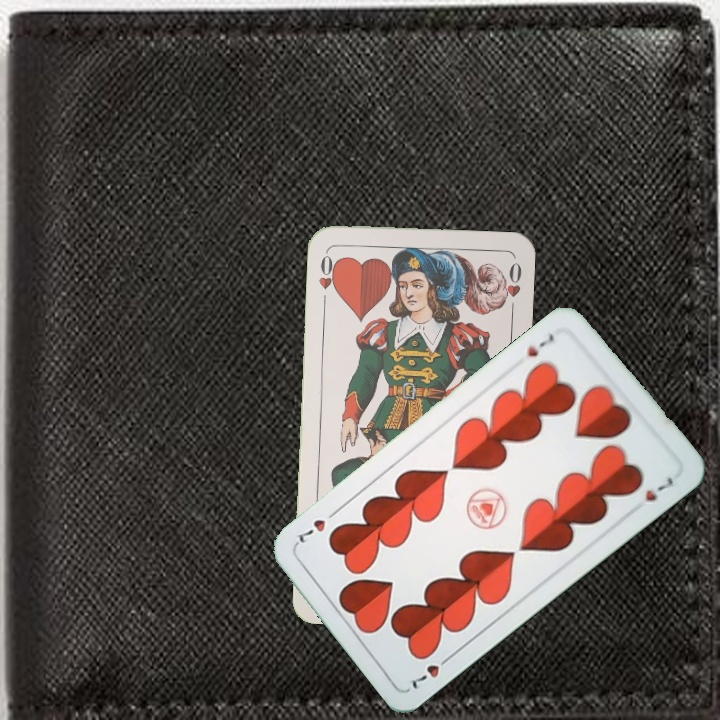H7: (407, 650, 456, 692), (523, 329, 557, 360)
HO: (315, 249, 341, 308)
